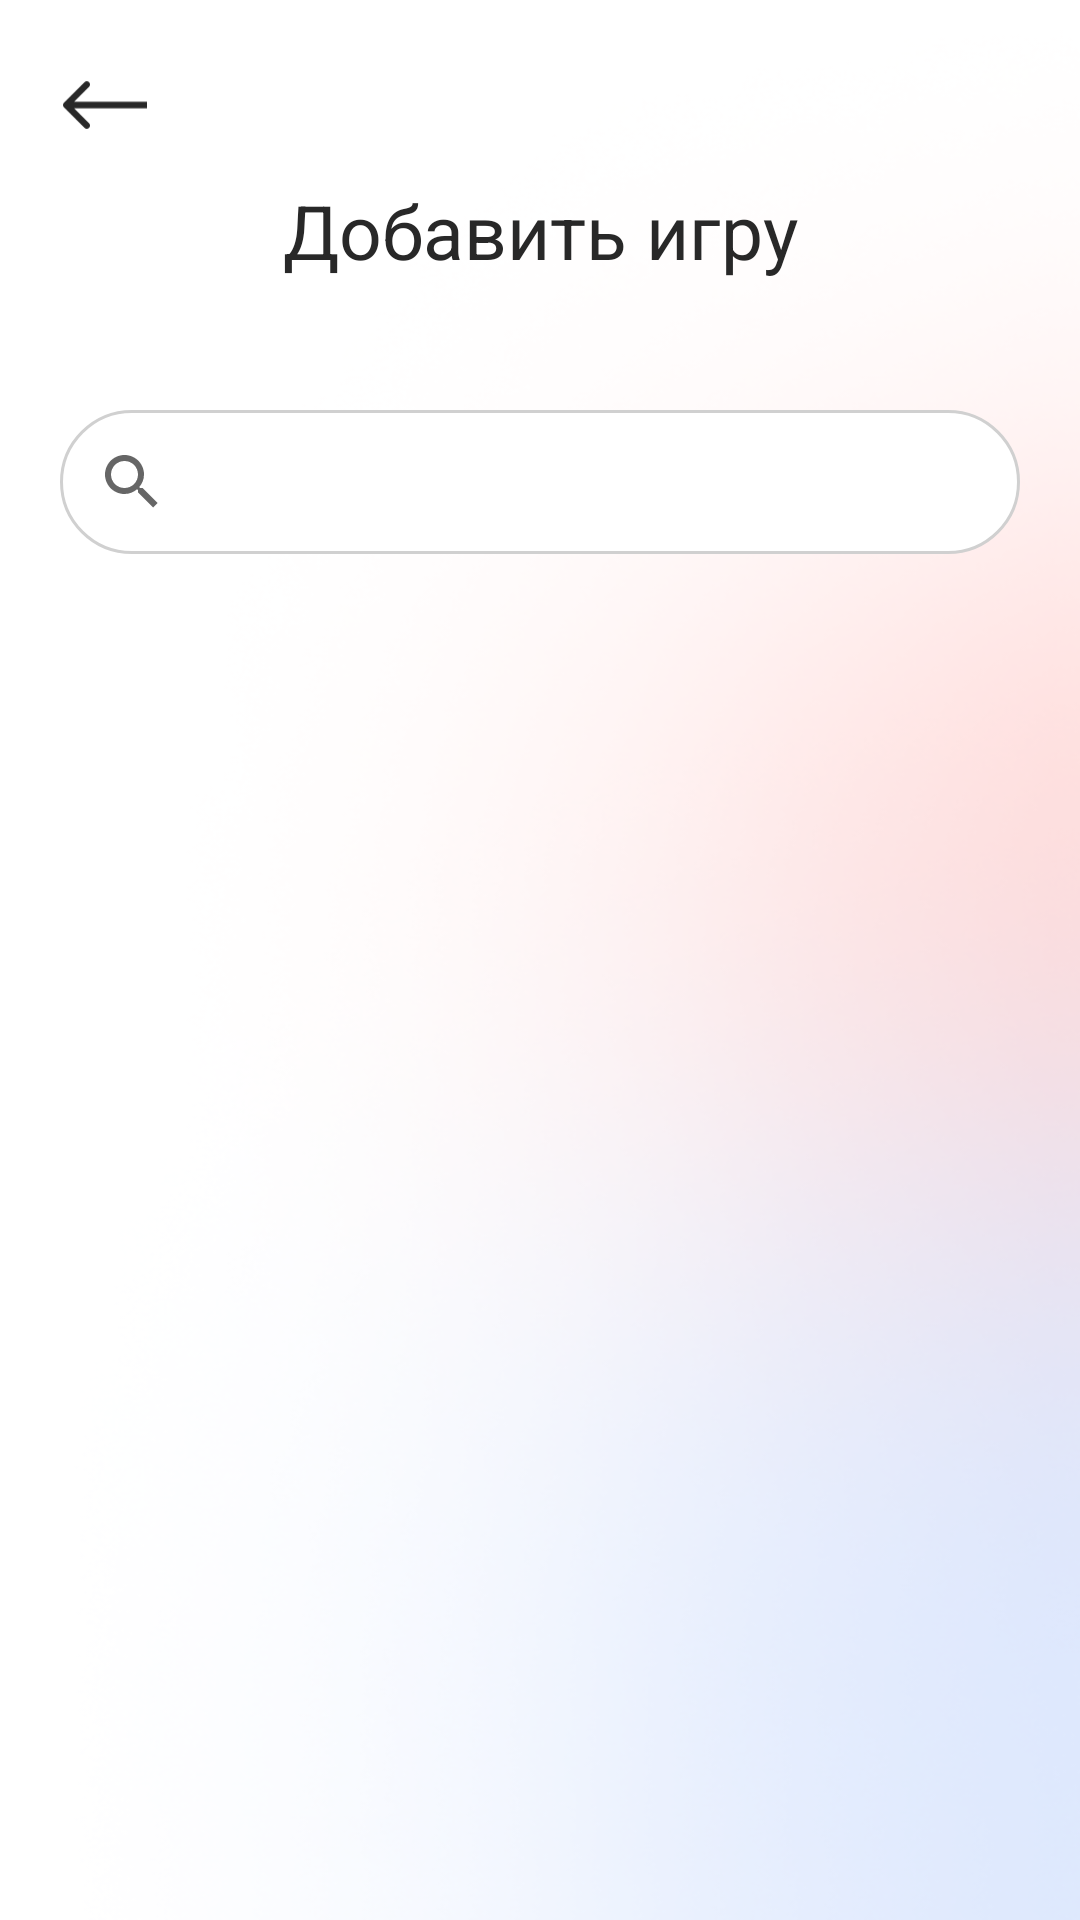

Locate icon controls on the screen. Image size 1080 × 1920, boxes as (x1, y1, x2, y2).
go back: (63, 81, 147, 129)
